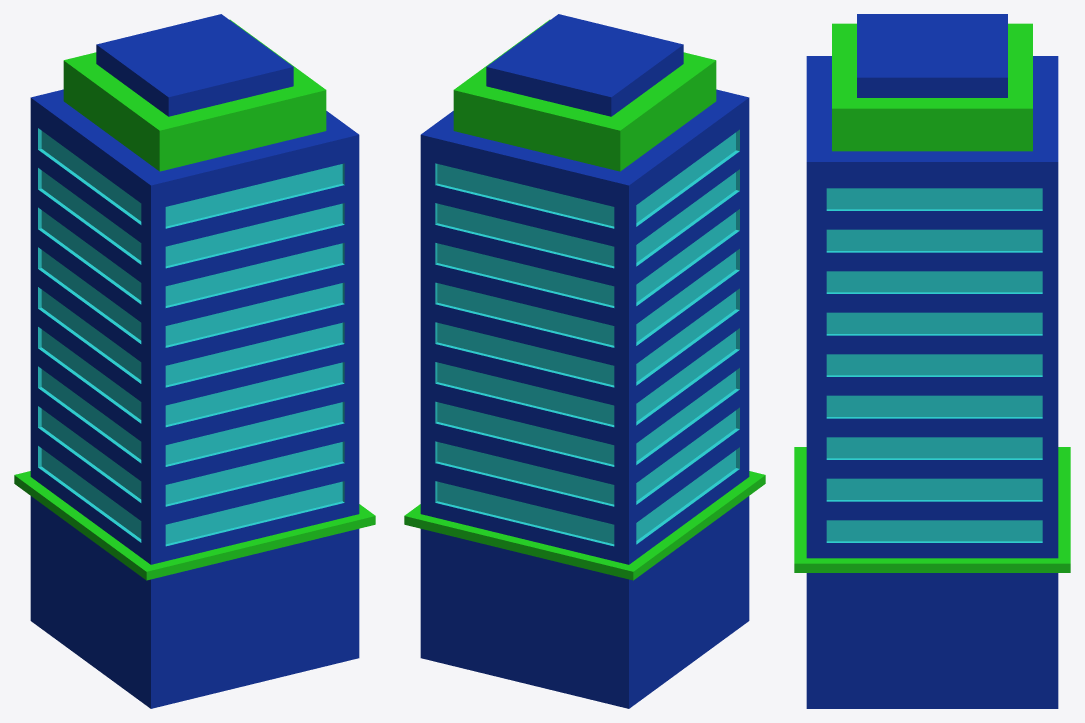
File: lowploybuilding6.FBX
The picture shows the model from 3 angles, left to right: view 1: azimuth 30°, elevation 25°; view 2: azimuth 150°, elevation 25°; view 3: azimuth 270°, elevation 25°; orthographic projection. The views are drawn at different scales.
Visible parts, largest first — view 1: Box001, Box002, Box004, Box003; view 2: Box001, Box002, Box004, Box003; view 3: Box001, Box002, Box004, Box003.
Part boxes in pixels (x1,y1,x2,y2): Box001: (30, 89, 359, 708); Box002: (63, 19, 326, 171); Box004: (96, 14, 293, 116); Box003: (14, 471, 375, 580); Box001: (420, 89, 749, 708); Box002: (453, 19, 716, 171); Box004: (486, 14, 683, 116); Box003: (404, 471, 765, 580); Box001: (806, 56, 1058, 708); Box002: (832, 23, 1032, 151); Box004: (857, 14, 1007, 97); Box003: (794, 447, 1070, 572).
Size of the model in its own units: 108 by 263 by 108.
